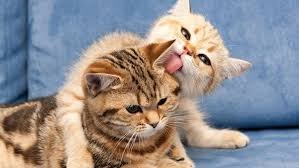cat: (120, 1, 269, 153), (66, 42, 191, 168)
